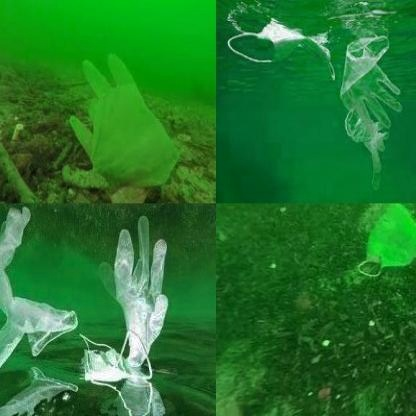Mask: (227, 11, 340, 86), (356, 203, 415, 291), (79, 329, 153, 387)
glove: (61, 54, 177, 191), (0, 204, 79, 378), (96, 210, 170, 356), (341, 30, 402, 200)
